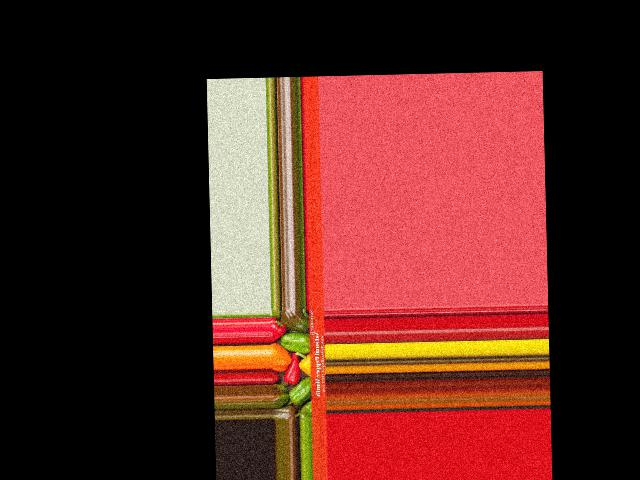bell_pepper: (280, 309, 309, 331)
